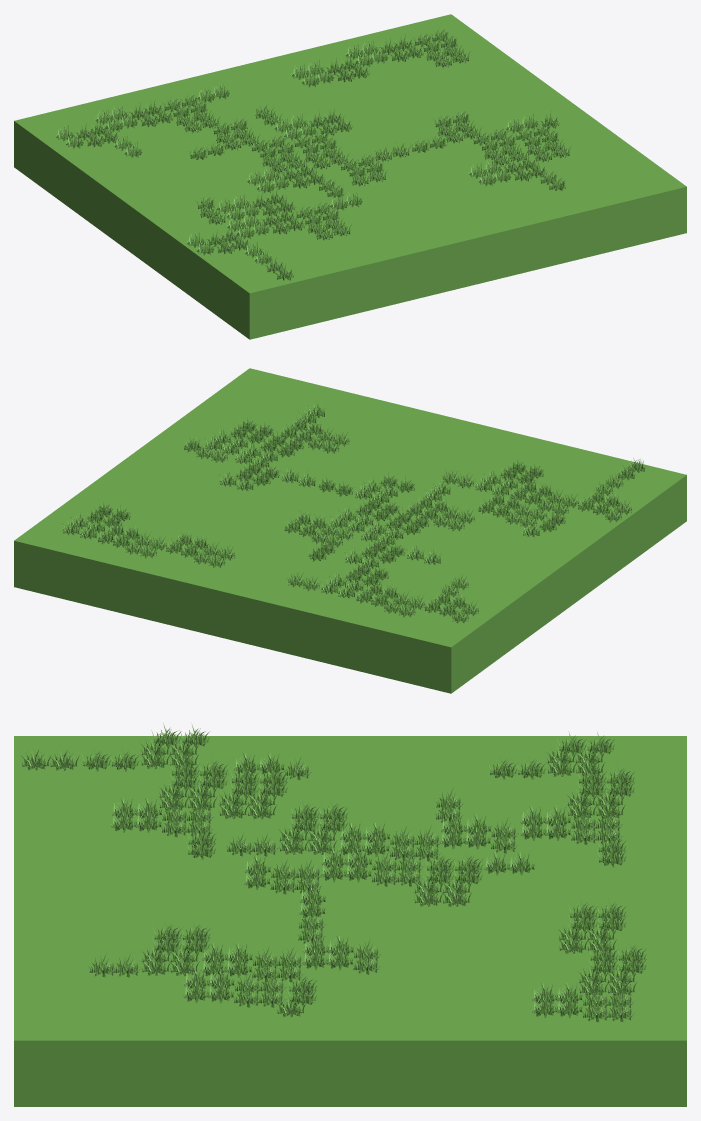
The model's file is STAGE1.fbx.
The picture shows the model from 3 angles, top to bottom: view 1: azimuth 30°, elevation 25°; view 2: azimuth 150°, elevation 25°; view 3: azimuth 270°, elevation 25°; orthographic projection. The views are drawn at different scales.
Parts seen in each view (by area): view 1: Cube.516; view 2: Cube.516; view 3: Cube.516.
Boxes of the visible parts, x1=… form: Cube.516: x1=14, y1=14, x2=686, y2=339; Cube.516: x1=14, y1=368, x2=686, y2=693; Cube.516: x1=14, y1=723, x2=686, y2=1106.
Bounding box in the file's own units: 13017 × 1699 × 12155.
